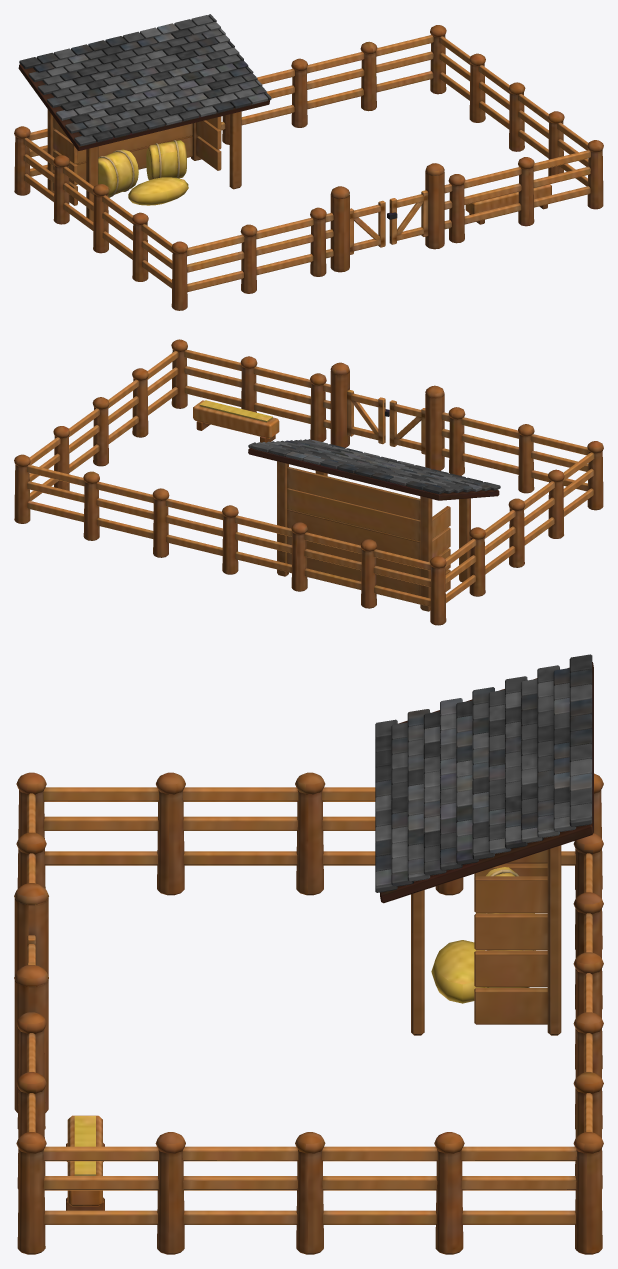
File: dorper_fold.glb
3 views of the same model, one above another, from view 1: azimuth 30°, elevation 25°; view 2: azimuth 150°, elevation 25°; view 3: azimuth 270°, elevation 25° (orthographic). The views are drawn at different scales.
Visible parts, largest first — view 1: dorper_fold, gate1, gate0; view 2: dorper_fold, gate1, gate0; view 3: dorper_fold.
Part boxes in pixels (bbox=[...]): dorper_fold: bbox=[14, 14, 603, 310]; gate1: bbox=[387, 190, 428, 244]; gate0: bbox=[350, 200, 385, 254]; dorper_fold: bbox=[14, 339, 603, 625]; gate1: bbox=[347, 389, 389, 444]; gate0: bbox=[389, 400, 425, 454]; dorper_fold: bbox=[14, 654, 603, 1254].
Bounding box in the file's own units: 3 × 0.9343 × 2.01.
Materials: 1 (1 with a texture image).
